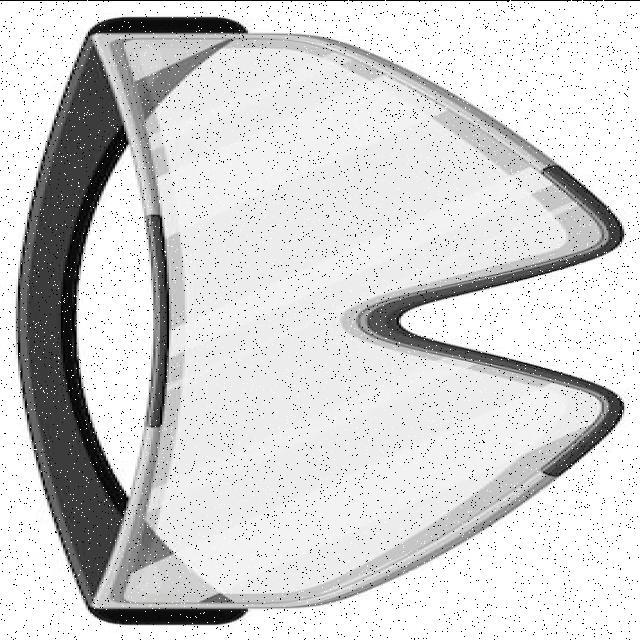Goggles: (4, 0, 640, 630)
